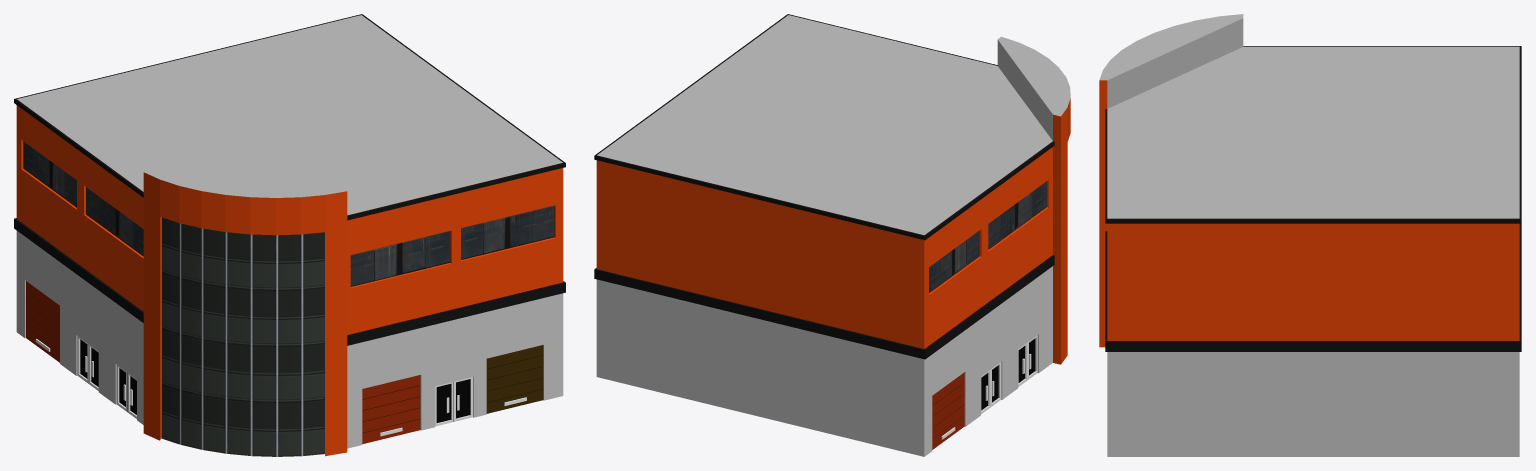
The picture shows the model from 3 angles, left to right: view 1: azimuth 30°, elevation 25°; view 2: azimuth 150°, elevation 25°; view 3: azimuth 270°, elevation 25°; orthographic projection. The views are drawn at different scales.
Visible parts, largest first — view 1: EB-009; view 2: EB-009; view 3: EB-009.
Boxes of the visible parts, box(x1,y1,x2,y2) form: EB-009: box(14, 14, 565, 456); EB-009: box(594, 14, 1070, 456); EB-009: box(1099, 14, 1521, 456).
Size of what is drawn, in the model's own units: 19.9 by 14 by 20.07.
